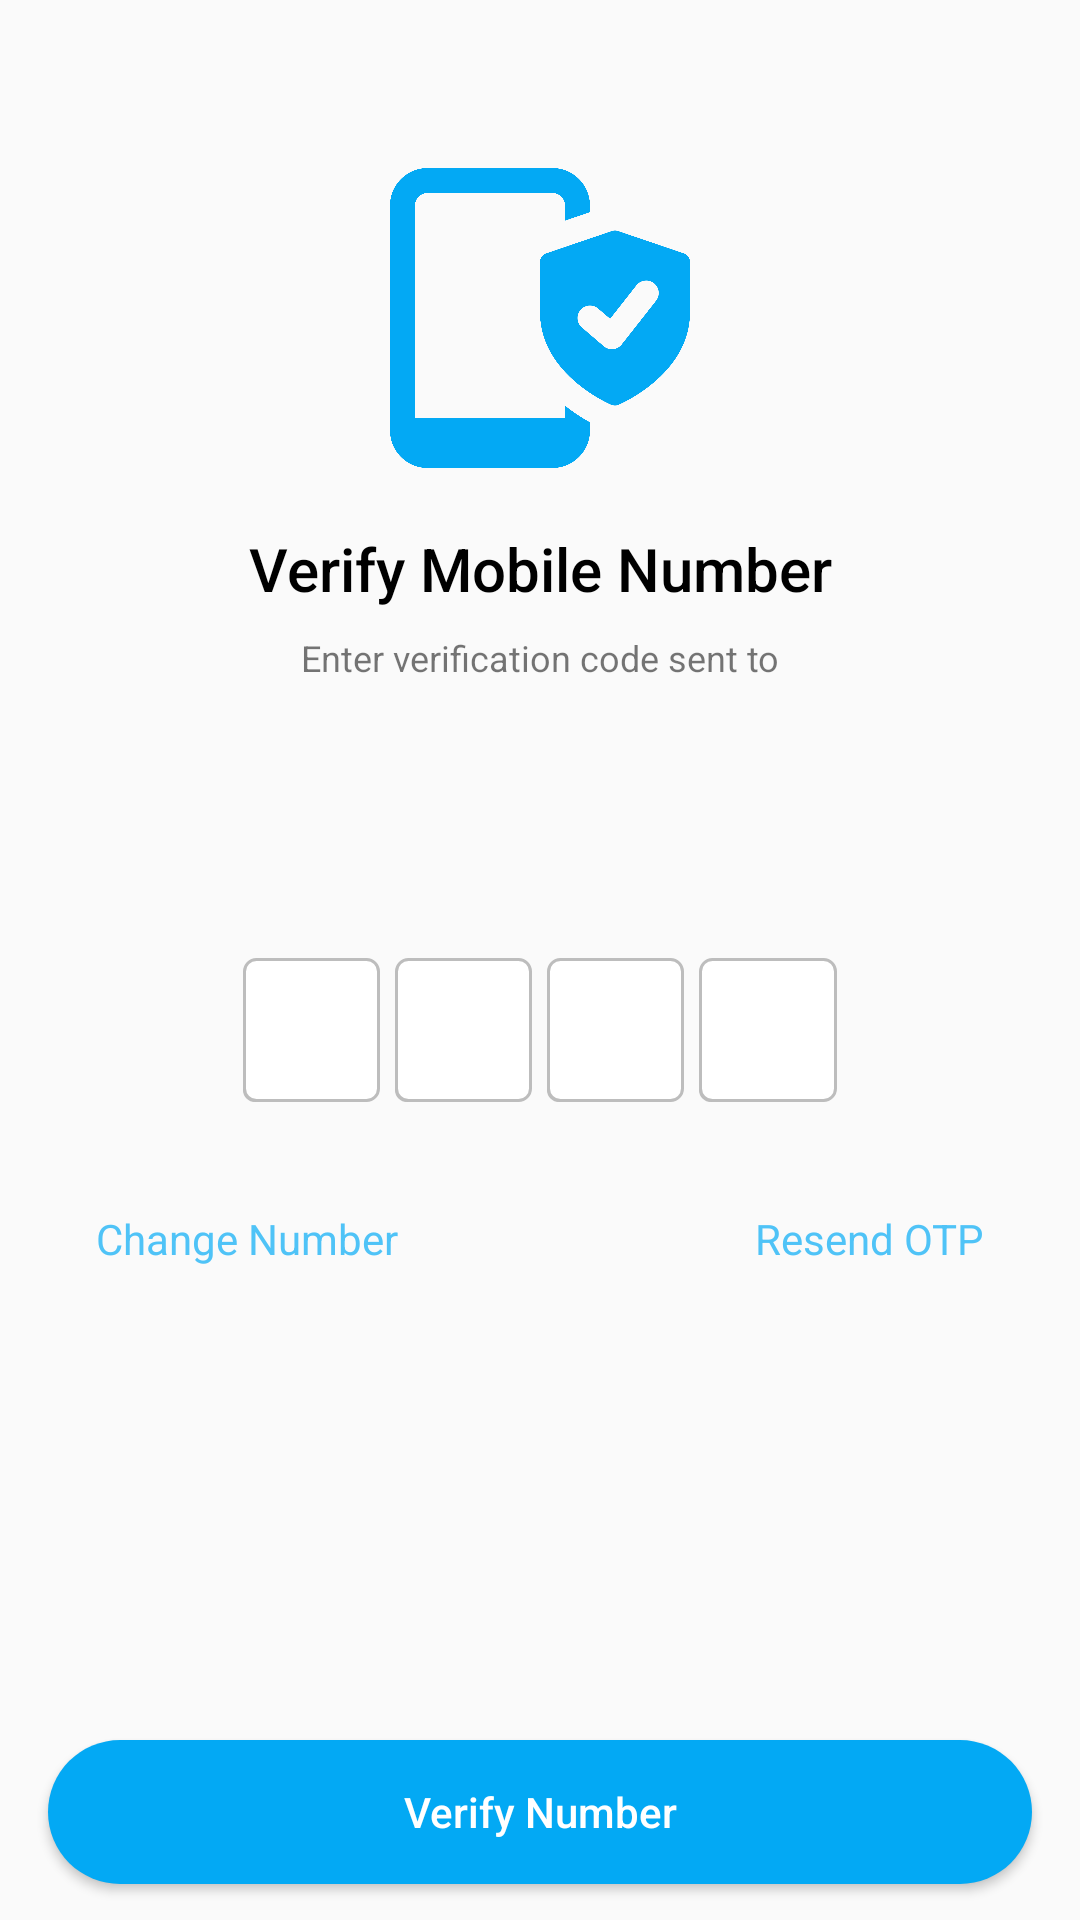

Icons on this 1080px×1920px Android screen, each with the point to tap as (x=x, y=y):
secure: (x=540, y=318)
